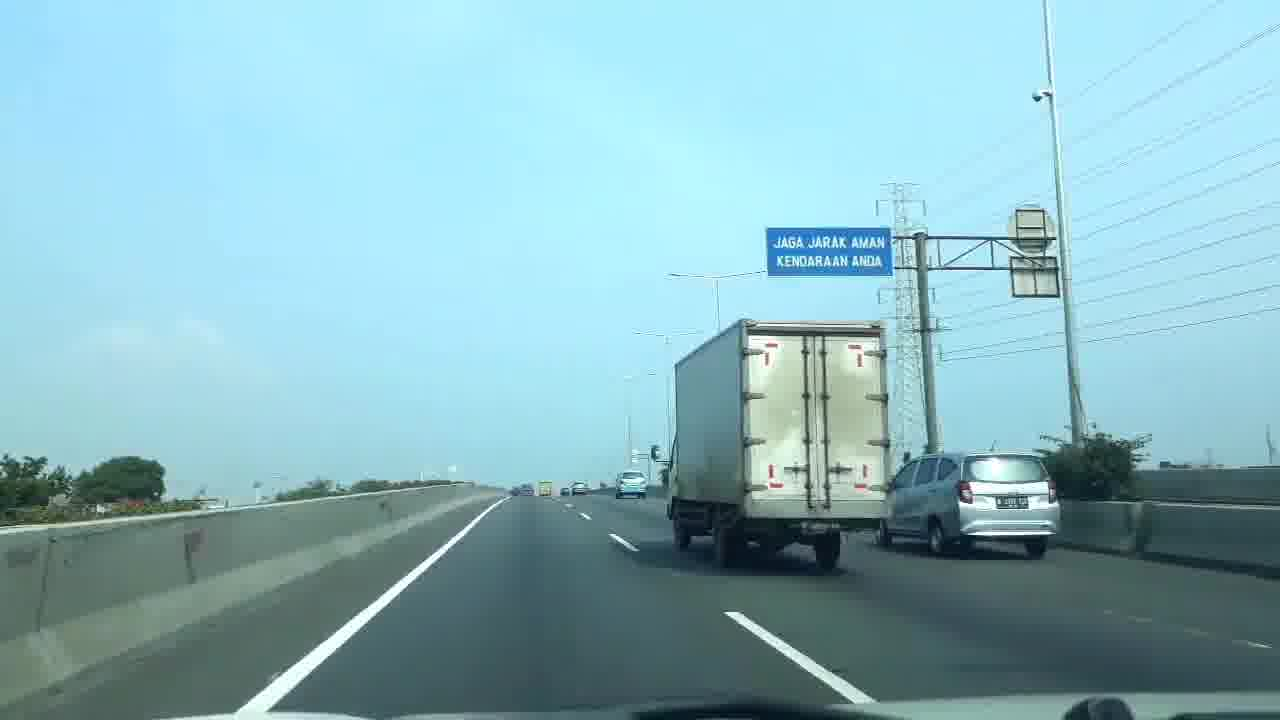plate_positive: (797, 521, 839, 534), (996, 496, 1029, 509)
